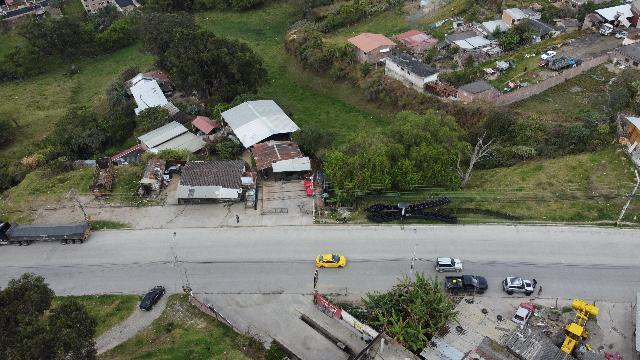Vehiculo: (444, 274, 488, 294), (140, 286, 164, 310), (502, 277, 534, 295), (511, 303, 533, 325), (316, 254, 346, 268), (436, 258, 462, 273), (599, 24, 613, 36), (540, 50, 556, 60), (616, 31, 628, 39)
